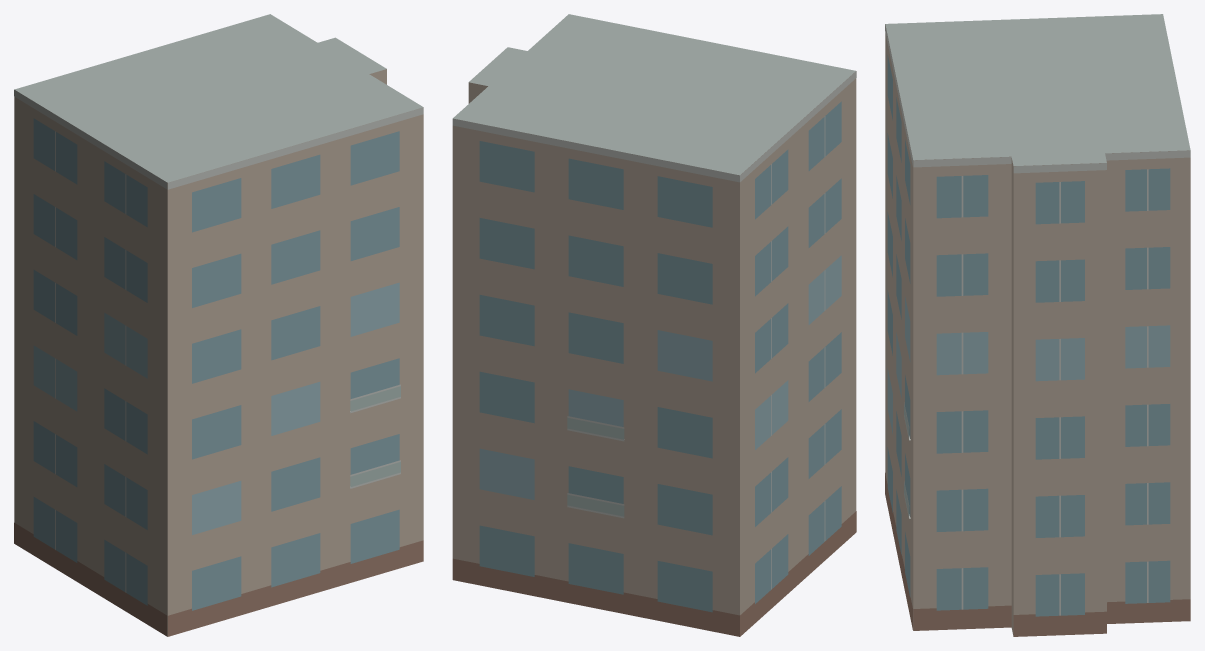
File: survey-upis-32994567.glb
3 views of the same model, side by side, from view 1: azimuth 30°, elevation 25°; view 2: azimuth 150°, elevation 25°; view 3: azimuth 270°, elevation 25° (orthographic). The views are drawn at different scales.
Visible parts, largest first — view 1: survey-upis-32994567.tmp; view 2: survey-upis-32994567.tmp; view 3: survey-upis-32994567.tmp.
Boxes of the visible parts, x1,y1,x2,y2 form: survey-upis-32994567.tmp: (14,14,423,636); survey-upis-32994567.tmp: (452,14,856,636); survey-upis-32994567.tmp: (885,14,1190,636).
Size of the model in its own units: 10.96 by 15.8 by 9.3.
